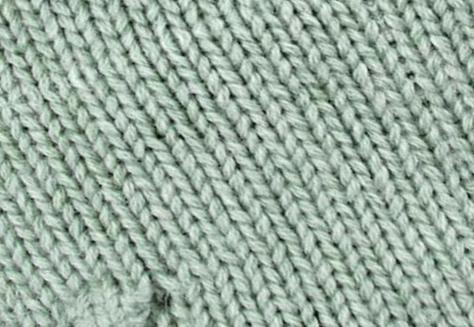knot: (57, 267, 166, 327)
